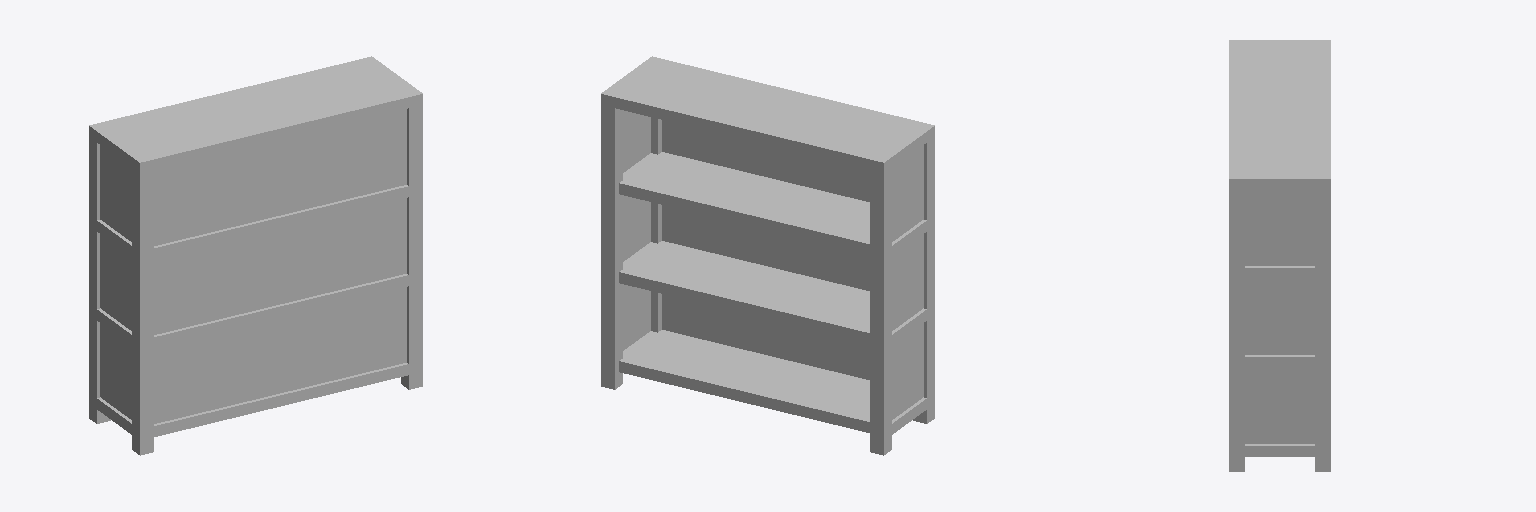
Rendered from bookcaseClosedWide.obj.
The picture shows the model from 3 angles: view 1: azimuth 30°, elevation 25°; view 2: azimuth 150°, elevation 25°; view 3: azimuth 270°, elevation 25°; orthographic projection.
Visible parts, largest first — view 1: bookcaseClosedWide; view 2: bookcaseClosedWide; view 3: bookcaseClosedWide.
Boxes of the visible parts, box(x1,y1,x2,y2) form: bookcaseClosedWide: box(89, 56, 422, 455); bookcaseClosedWide: box(601, 56, 934, 455); bookcaseClosedWide: box(1229, 40, 1330, 471).
Bounding box in the file's own units: 8 × 7.9 × 2.5.